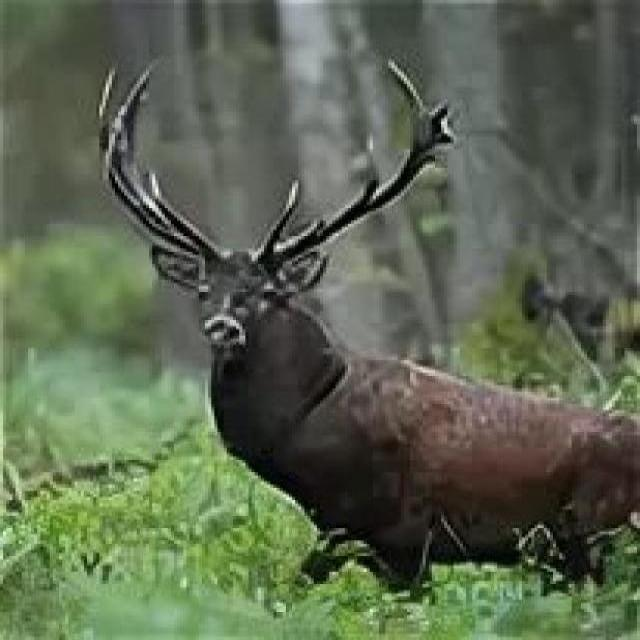deer: (102, 89, 610, 583)
